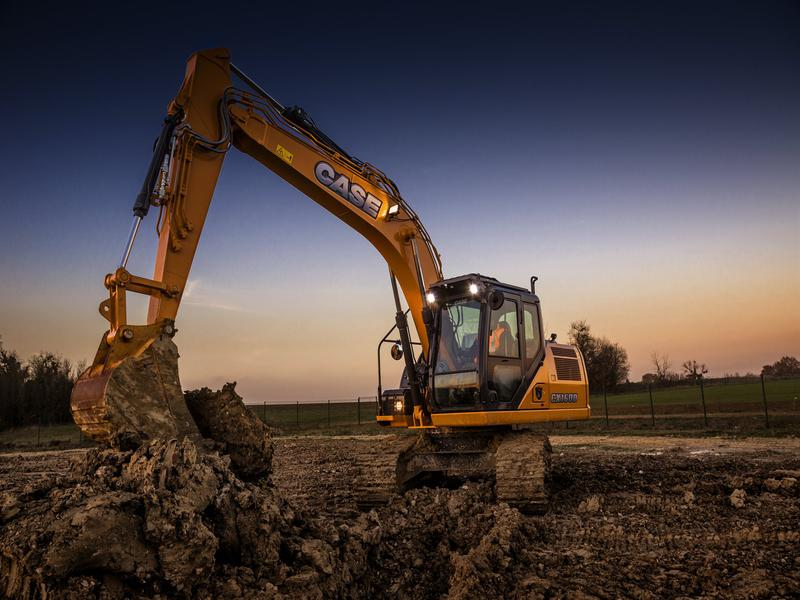shovel: (64, 45, 596, 514)
